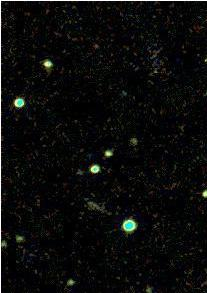star: (141, 59, 171, 89)
